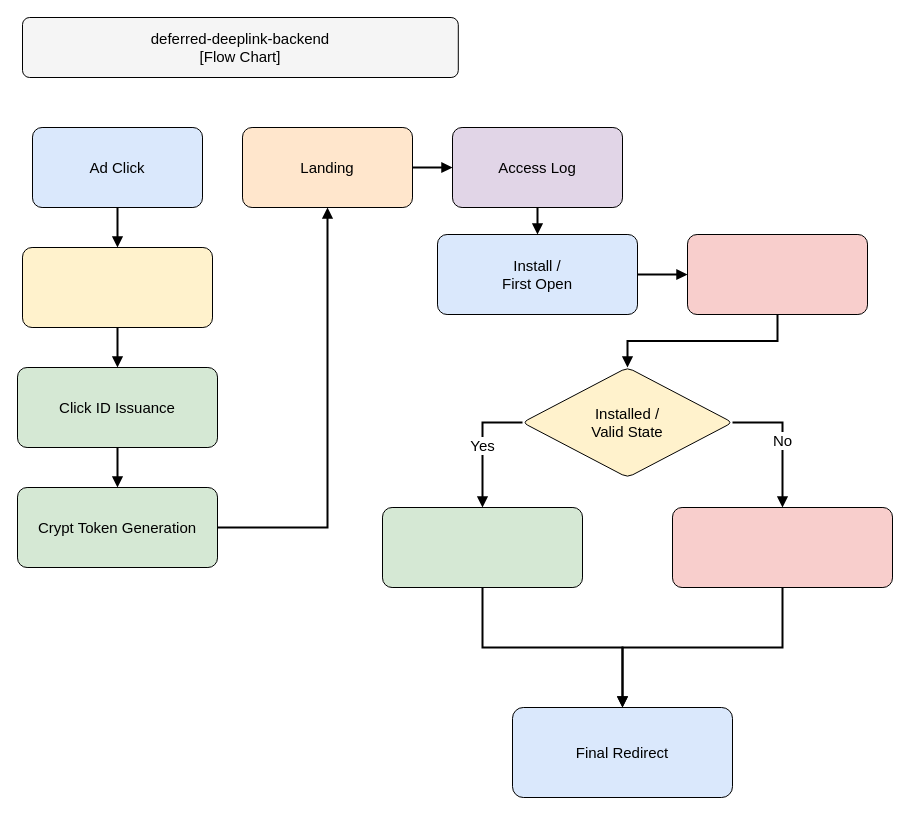
The diagram is 910 pixels wide and 815 high, and some of its shapes have lost their labels. The centre of each missing label's shape, as x and y in pixels:
"Invalid or Fallback Path" belongs at pixel 782 547.
"Resolve Deep Link" belongs at pixel 482 547.
"Token Verification" belongs at pixel 777 274.
"Tracking API" belongs at pixel 117 287.
